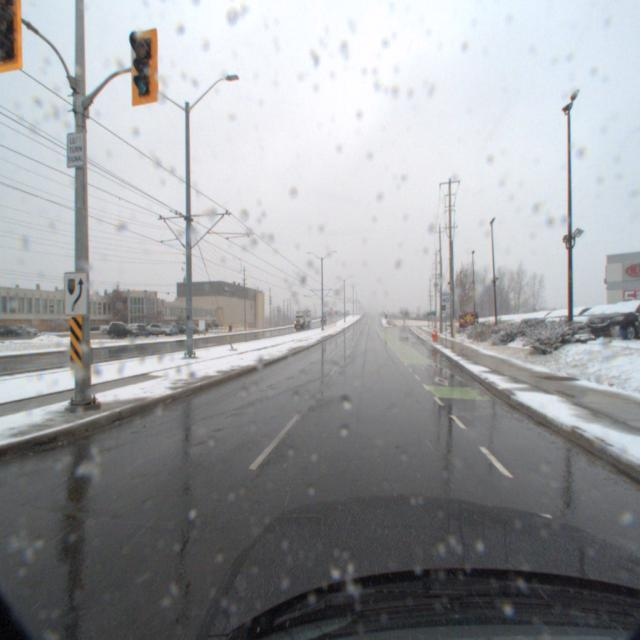Car: (538, 304, 620, 336), (147, 323, 181, 338)
Truck: (296, 310, 316, 328)
